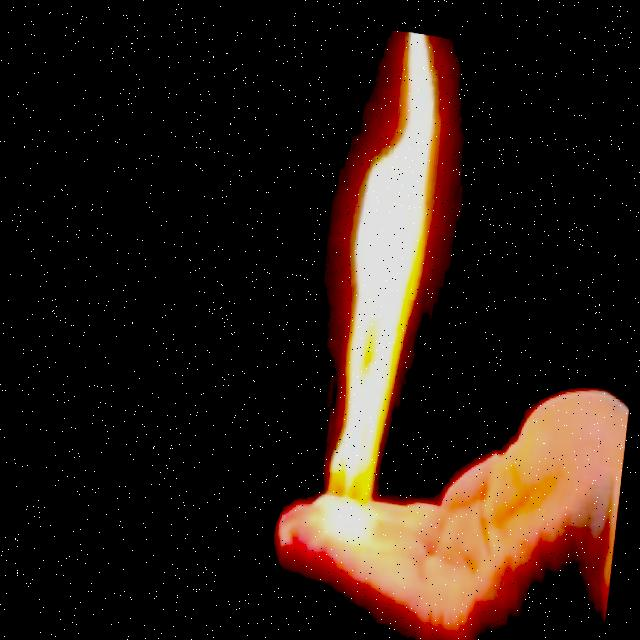Fire: (304, 17, 470, 560)
